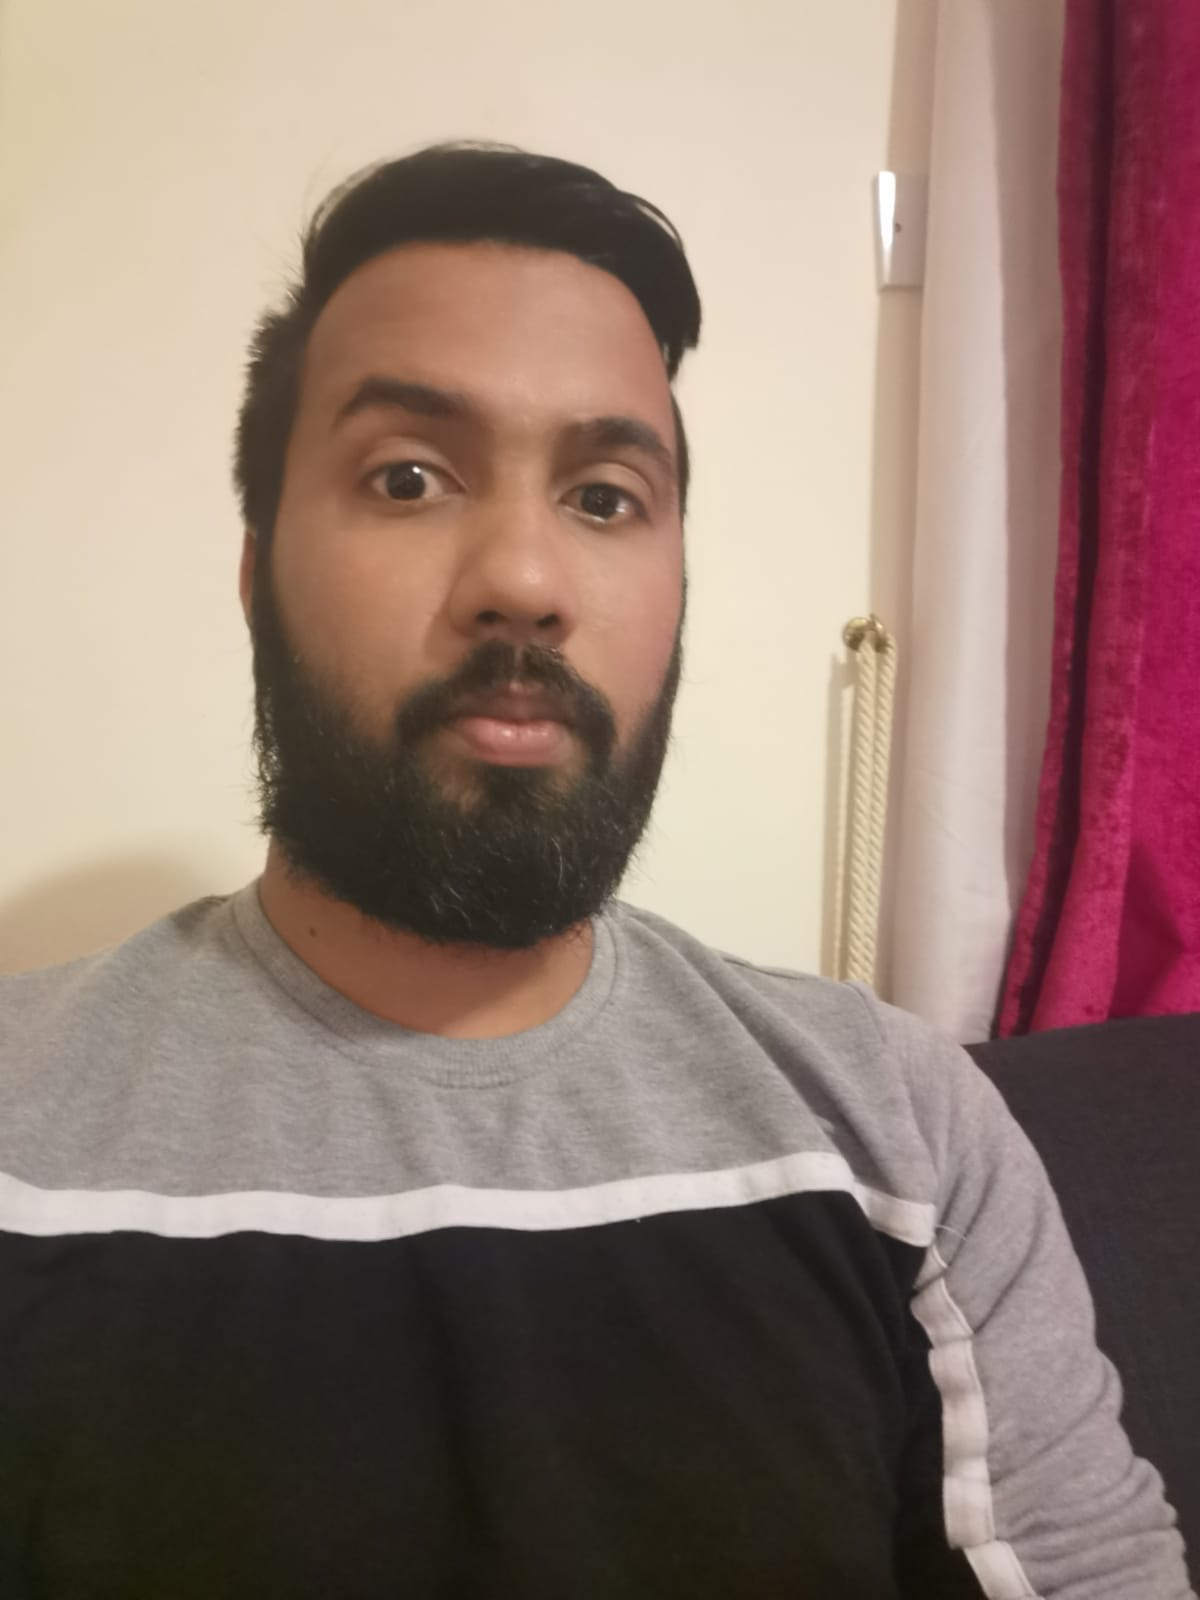Not Sleeping: (318, 406, 682, 558)
